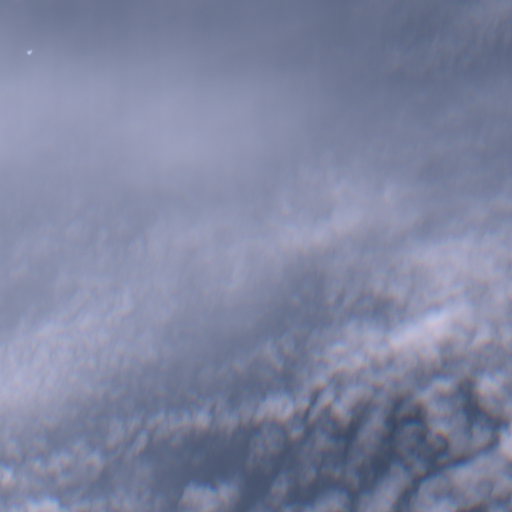Iceberg: (27, 51, 31, 53)
